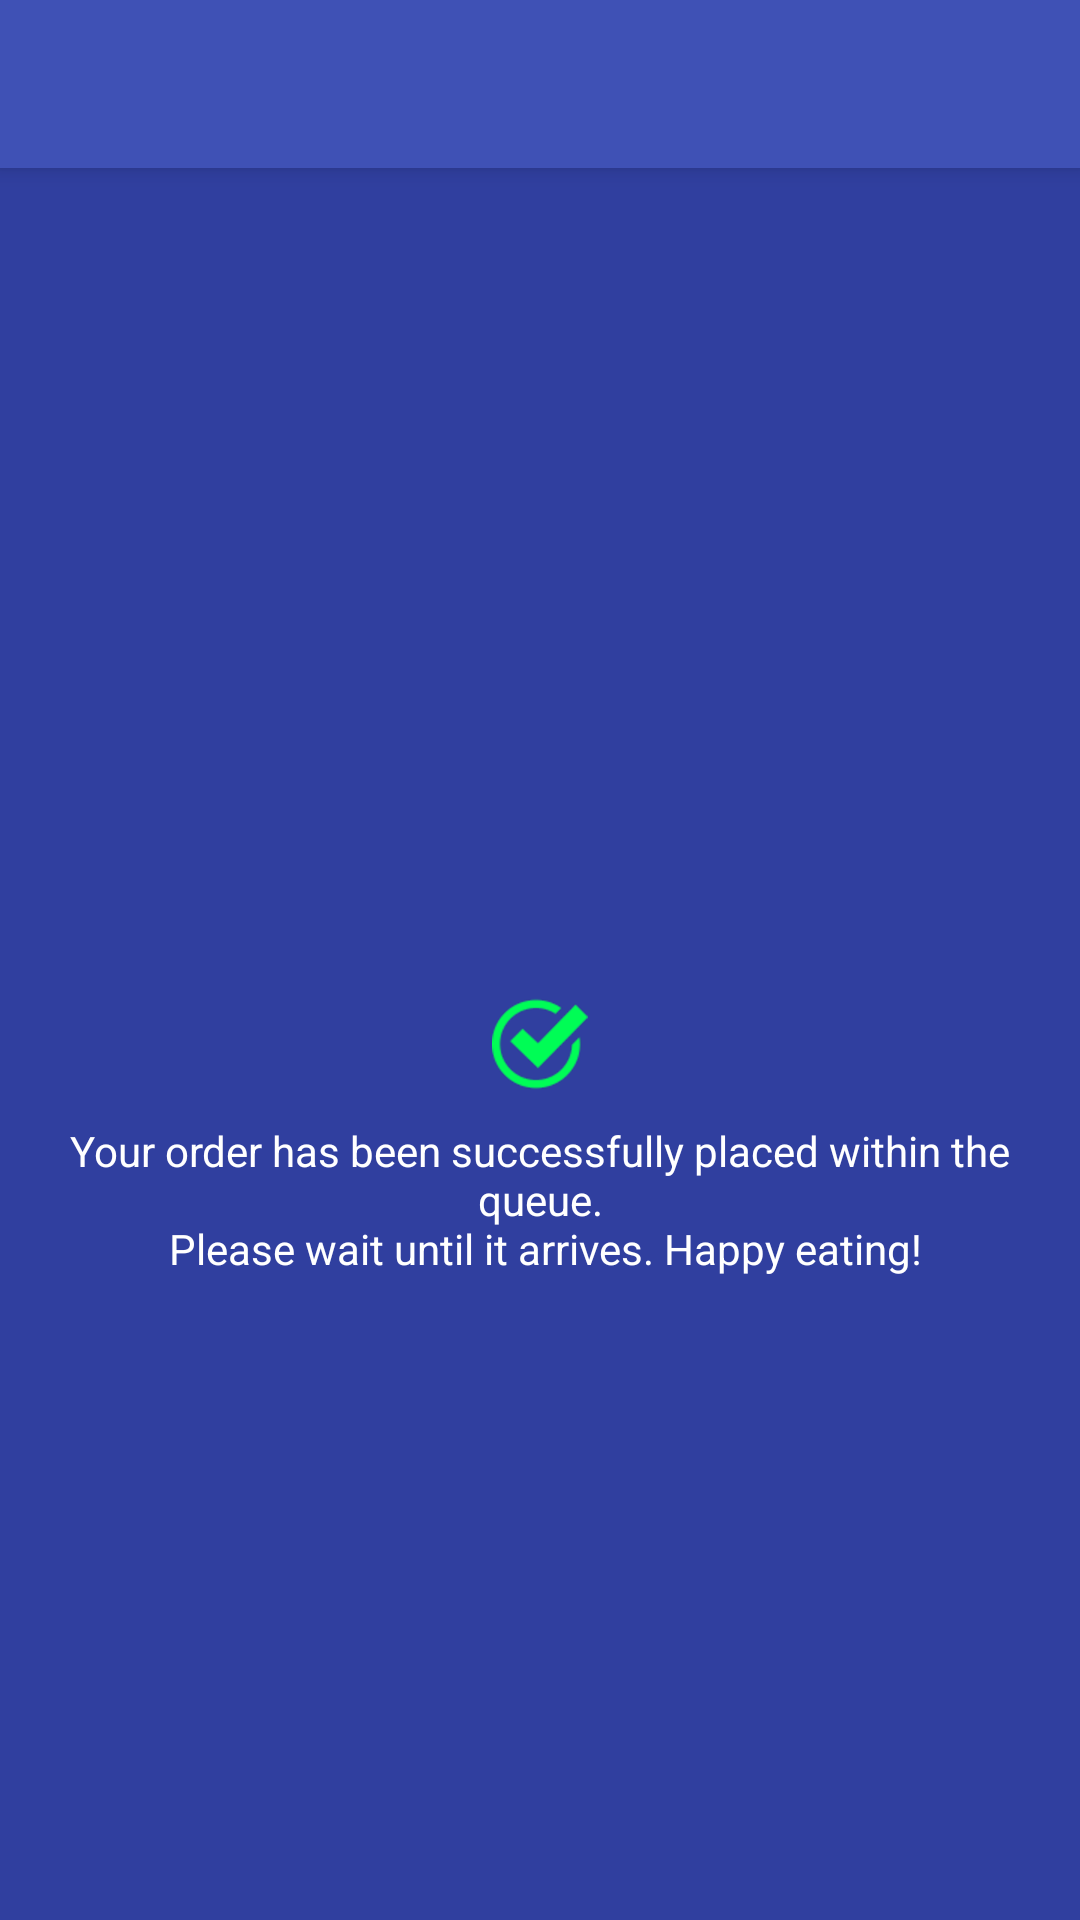

Screen size 1080*1920. Icon name, then its center in pixels as point (x, y):
check: point (540, 1044)
